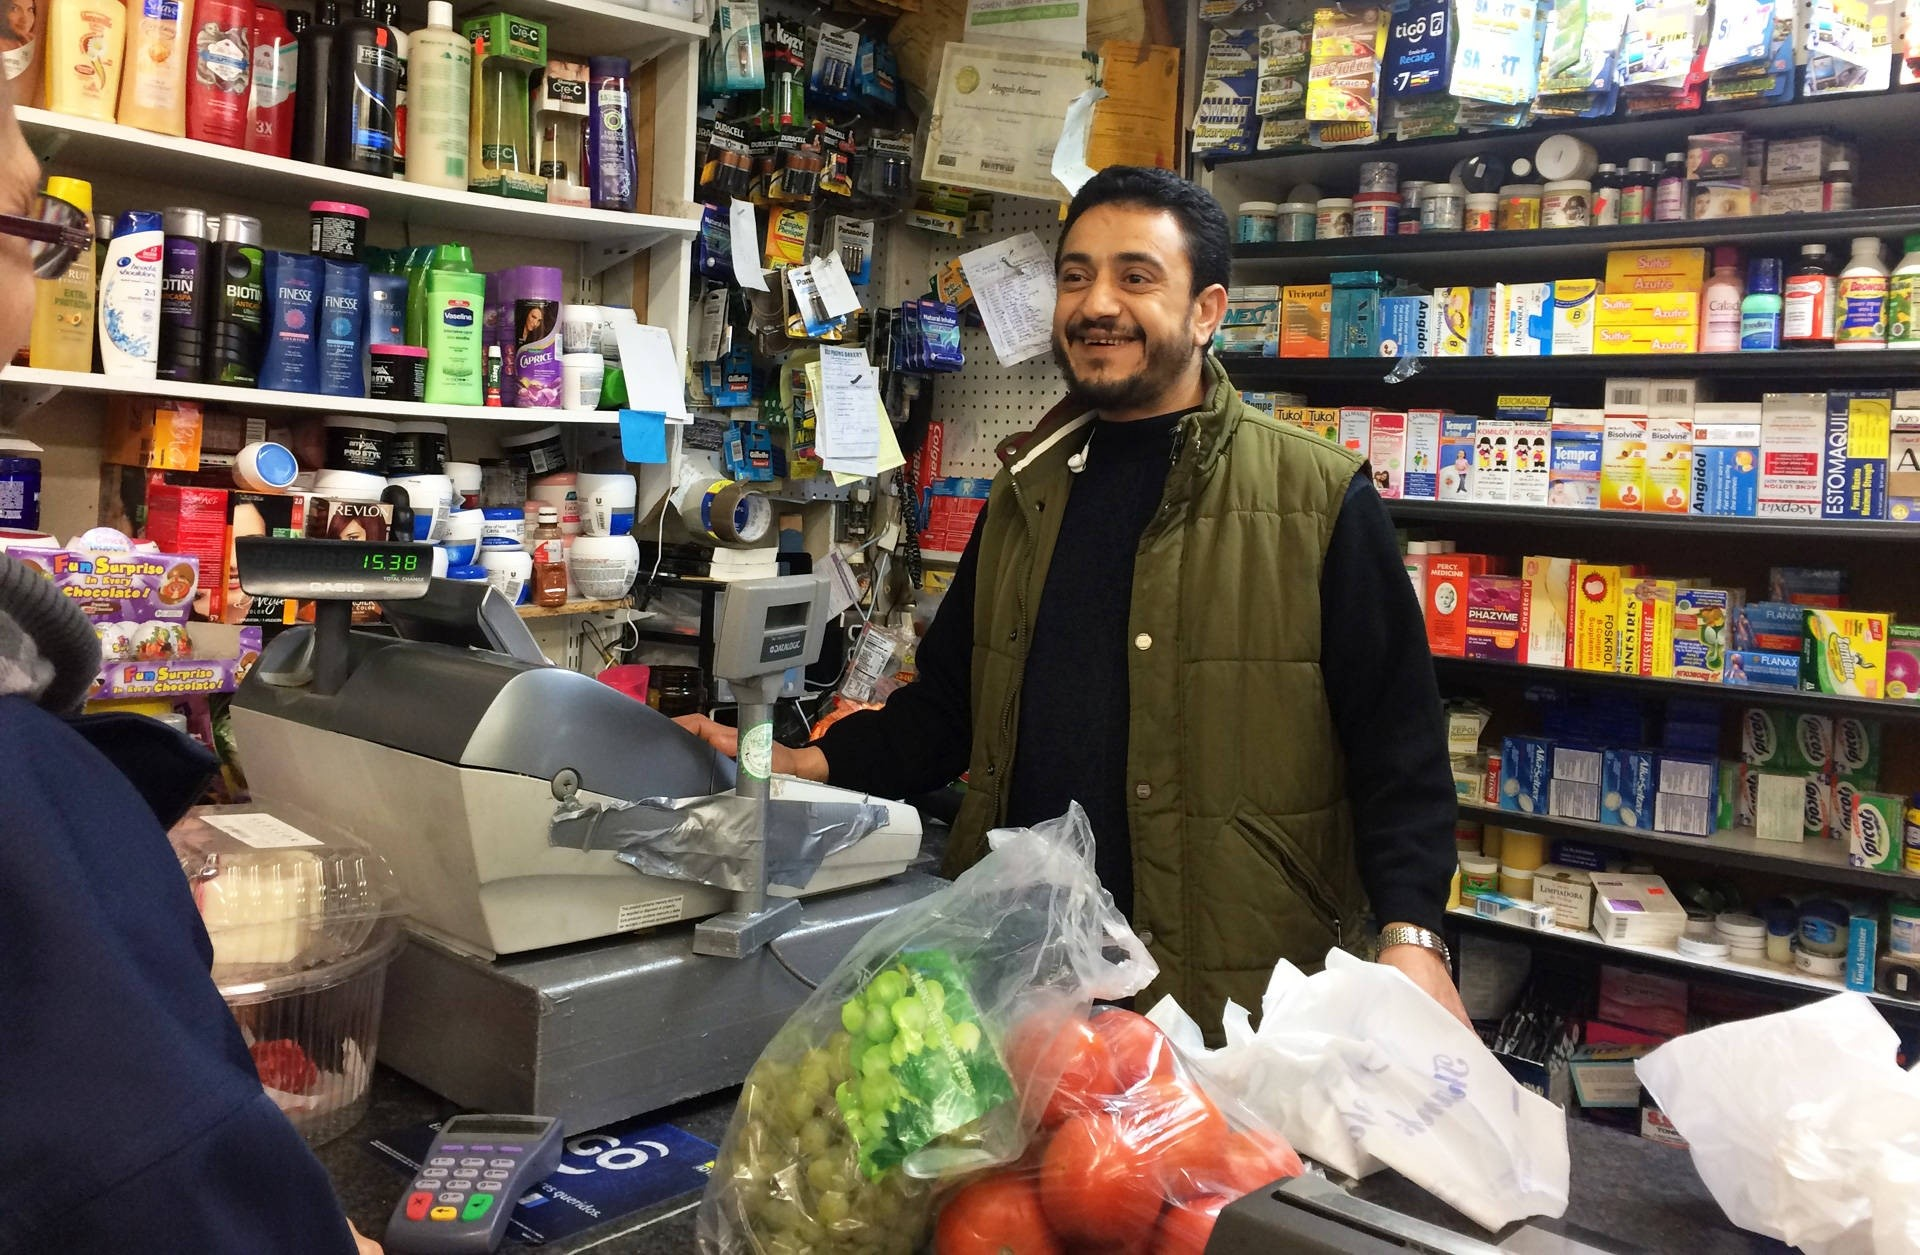face_no_mask: (1055, 166, 1235, 400)
